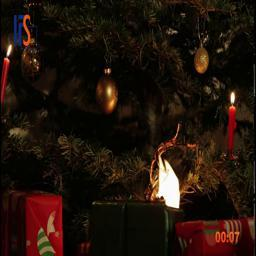Fire: (150, 151, 185, 206)
